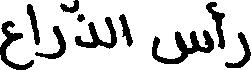X: (151, 0, 212, 68), (42, 0, 64, 63), (0, 16, 23, 69), (76, 0, 97, 52), (226, 27, 250, 69), (28, 0, 40, 69), (120, 9, 131, 51), (217, 7, 224, 53), (106, 12, 113, 53)
